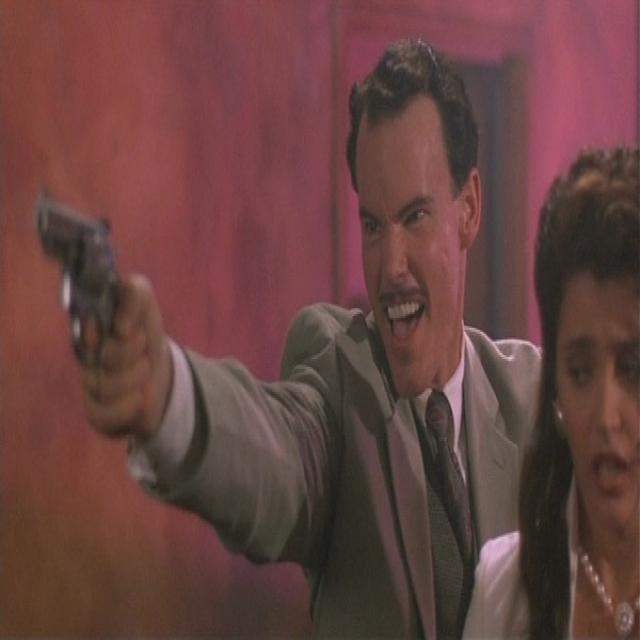weapons: (22, 168, 156, 458)
